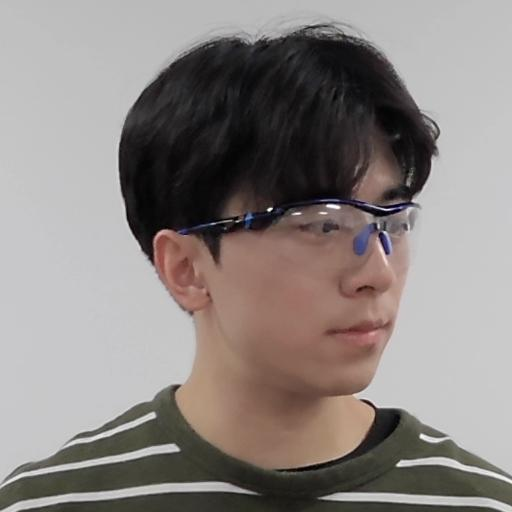glasses: (116, 22, 444, 410)
